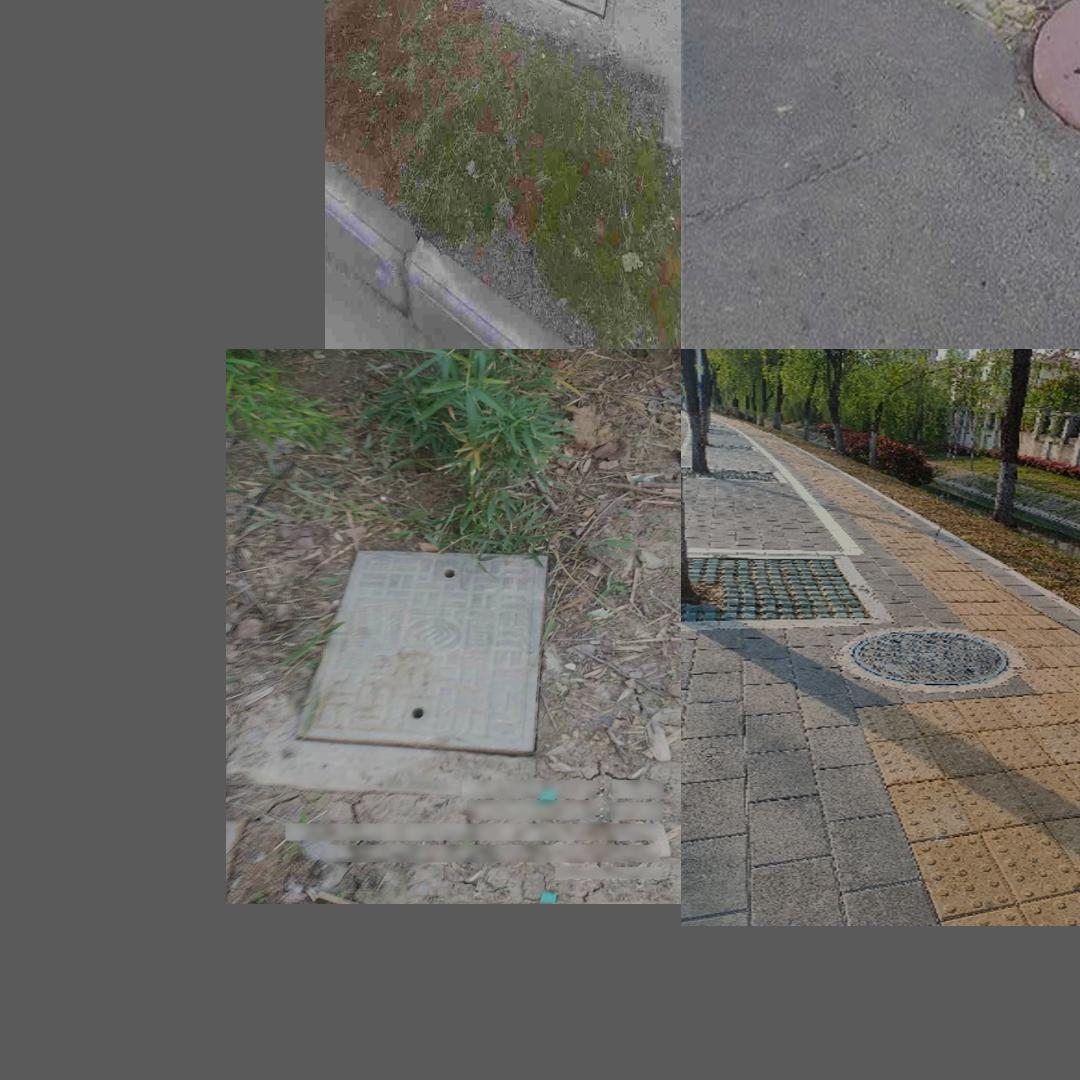good: (293, 548, 549, 758), (1004, 0, 1080, 165), (851, 631, 1009, 686), (431, 0, 624, 28)
